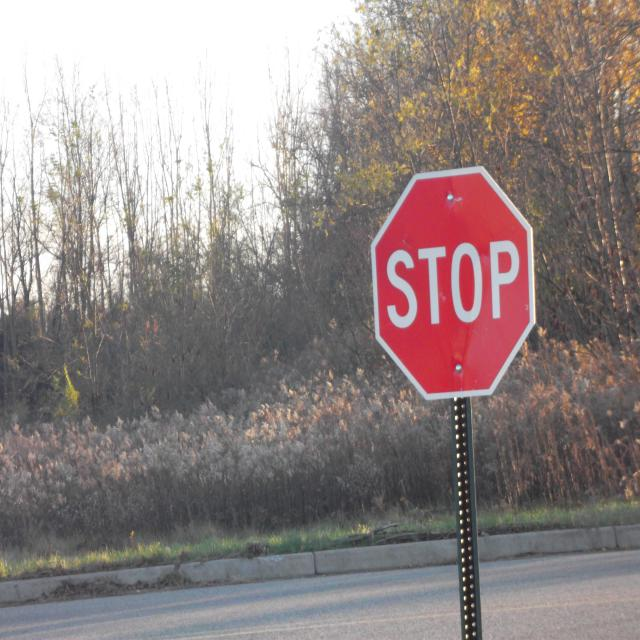stop: (368, 165, 539, 402)
